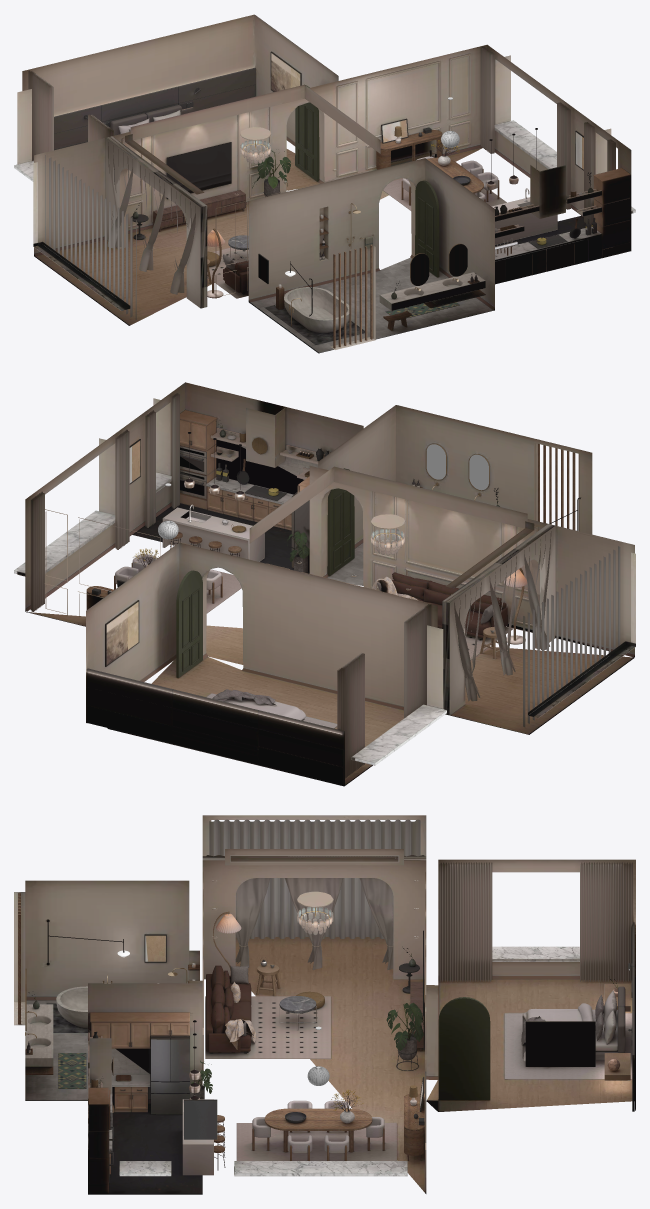
3 views of the same model, one above another, from view 1: azimuth 30°, elevation 25°; view 2: azimuth 150°, elevation 25°; view 3: azimuth 270°, elevation 25° (orthographic). The views are drawn at different scales.
Parts seen in each view (by area): view 1: house, floor, floor bathroom, curtain living room, cabinet, arc wall, background, concrete, curtain dining room, door, wood bathroom, sill (+20 smaller); view 2: house, floor, background, curtain living room, arc wall, curtain dining room, curtain bedroom, sill, door, cabinet, curtain french, bar (+17 smaller); view 3: house, floor, curtain bedroom, curtain living room, arc wall, cabinet, floor kichen, art, door, curtain french, sill, carpet living room (+24 smaller).
Part boxes in pixels (bbox=[...]): house: bbox=[17, 14, 633, 349]; floor: bbox=[34, 147, 482, 325]; floor bathroom: bbox=[249, 257, 494, 353]; curtain living room: bbox=[45, 155, 136, 319]; cabinet: bbox=[495, 168, 630, 283]; arc wall: bbox=[105, 136, 207, 308]; background: bbox=[54, 67, 255, 150]; concrete: bbox=[284, 272, 485, 332]; curtain dining room: bbox=[480, 46, 615, 226]; door: bbox=[295, 85, 439, 277]; wood bathroom: bbox=[276, 215, 485, 348]; sill: bbox=[14, 120, 635, 309]; house: bbox=[17, 382, 635, 722]; floor: bbox=[26, 612, 634, 786]; background: bbox=[86, 668, 344, 785]; curtain living room: bbox=[523, 546, 620, 727]; arc wall: bbox=[442, 524, 555, 715]; curtain dining room: bbox=[30, 393, 179, 611]; curtain bedroom: bbox=[337, 604, 431, 778]; sill: bbox=[14, 472, 635, 765]; door: bbox=[176, 468, 354, 677]; cabinet: bbox=[180, 410, 309, 530]; curtain french: bbox=[454, 531, 551, 701]; bar: bbox=[162, 507, 264, 561]; house: bbox=[14, 815, 635, 1177]; floor: bbox=[235, 937, 635, 1193]; curtain bedroom: bbox=[439, 862, 632, 981]; curtain living room: bbox=[209, 819, 420, 938]; arc wall: bbox=[202, 856, 426, 979]; cabinet: bbox=[88, 1012, 189, 1193]; floor kichen: bbox=[88, 1103, 202, 1194]; art: bbox=[144, 934, 595, 1139]; door: bbox=[438, 997, 490, 1100]; curtain french: bbox=[206, 855, 424, 969]; sill: bbox=[119, 946, 579, 1176]; carpet living room: bbox=[205, 996, 330, 1058].
Size of the model in its own units: 14.45 by 3.36 by 13.9.
75 materials, 74 textured.
